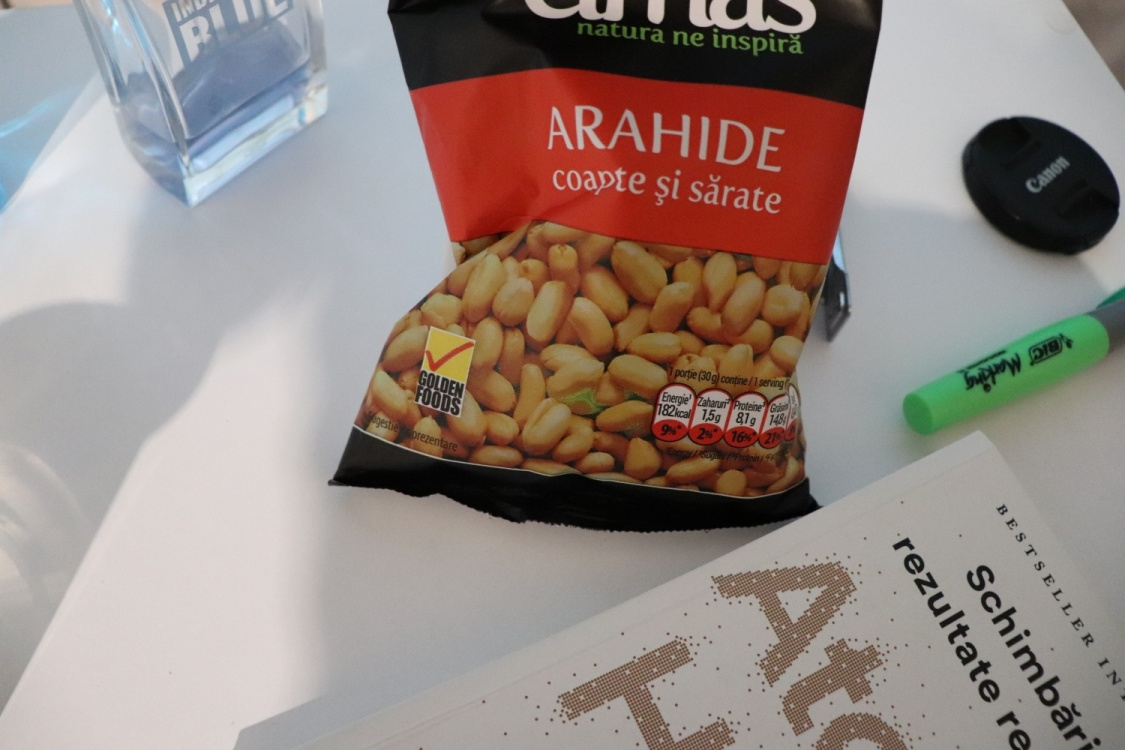peanuts: (355, 1, 890, 533)
